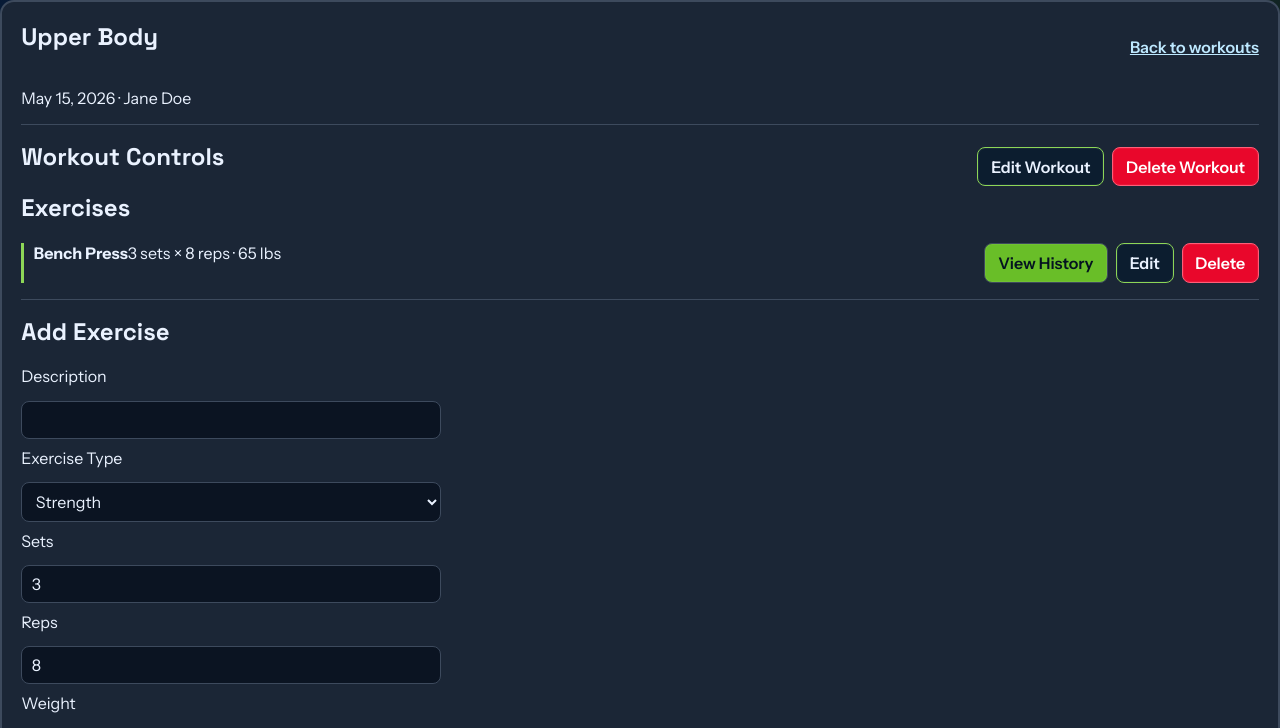
WorkoutDetailPage › submits workout edits for the owner
The image size is (1280, 728).
Check: the heading "Upper Body" is shown, box [21,21,158,52]
Click the button "Edit Workout" at [1041, 167], box [977,147,1104,186]
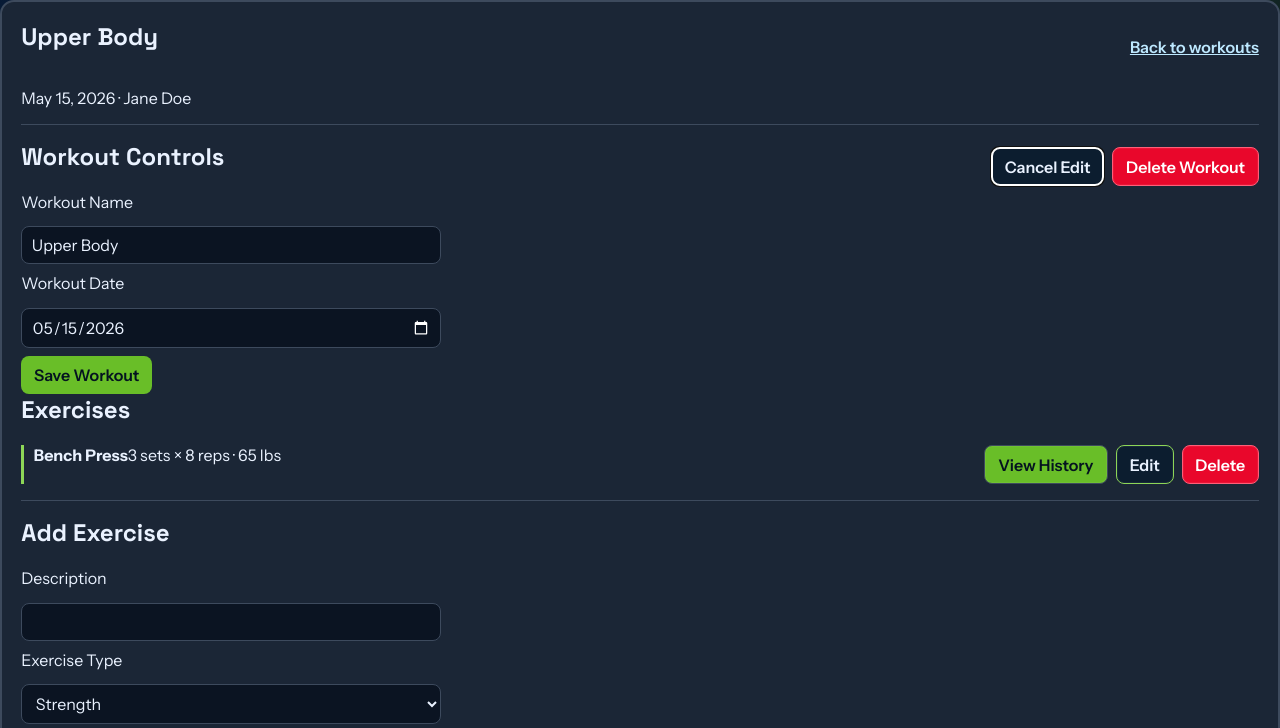
Replace the text in the field labelled "Workout Name" with "Upper Strength" at [231, 245], box [21,226,441,264]
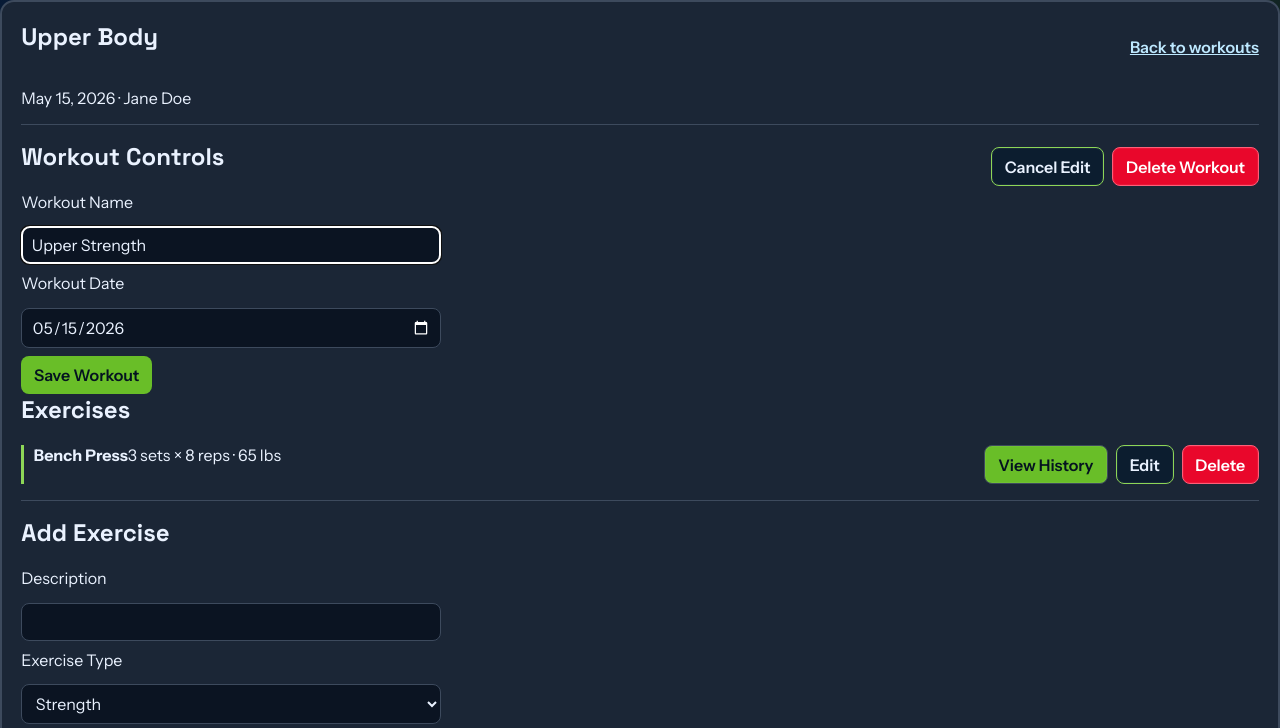
Click the button "Save Workout" at [87, 375], box [21,356,152,394]
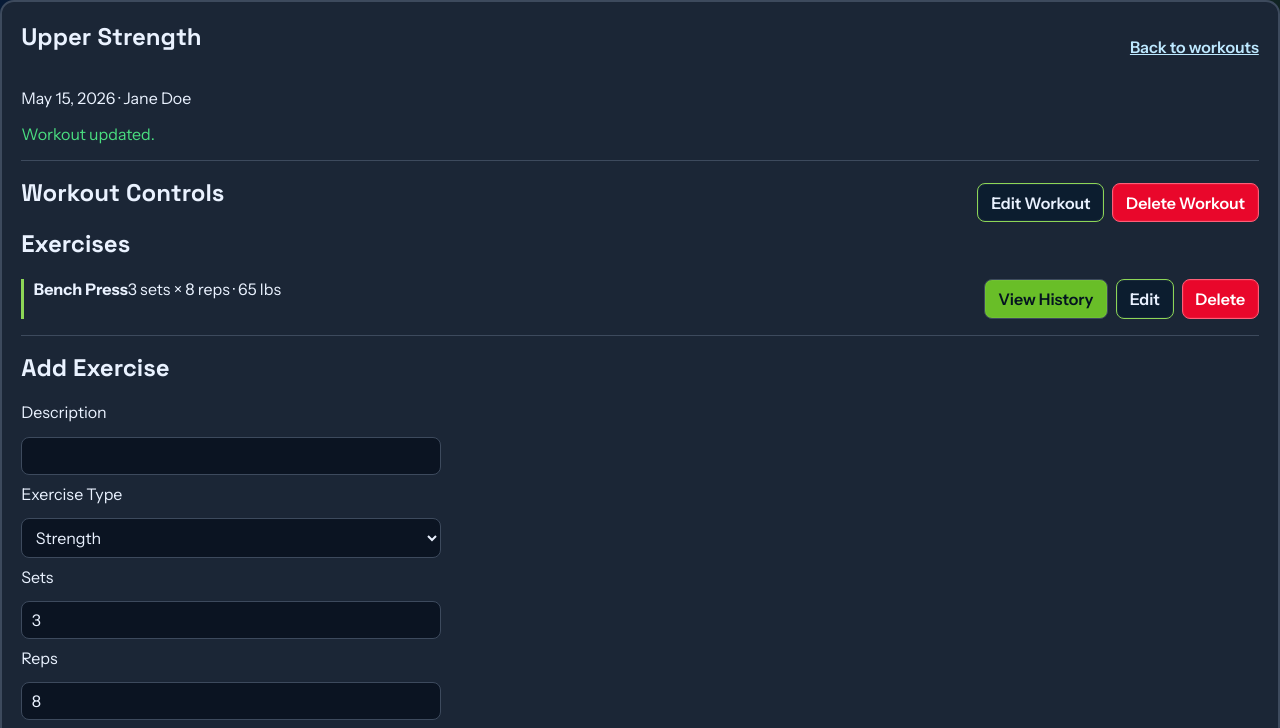
Check: the text "Workout updated." is shown, box [21,124,155,144]
